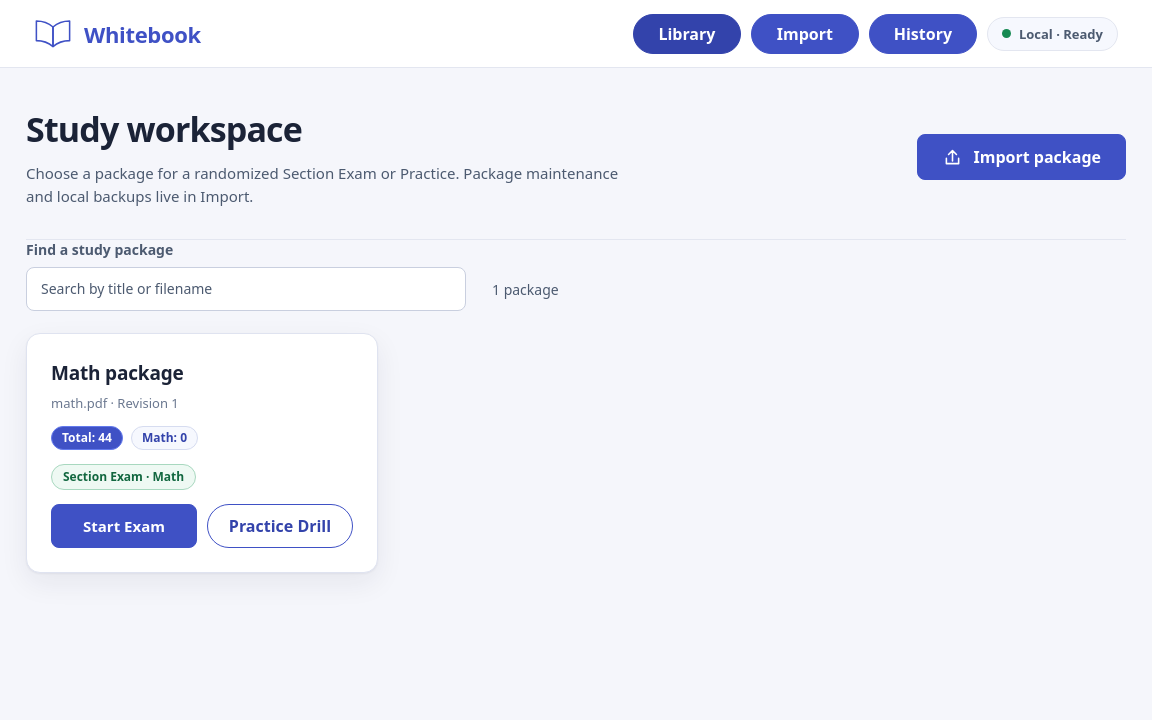
Test: surfaces a clear Start Exam error without creating an Attempt
Click the button "Start Exam" at x=124, y=526, box [51,504,197,548]
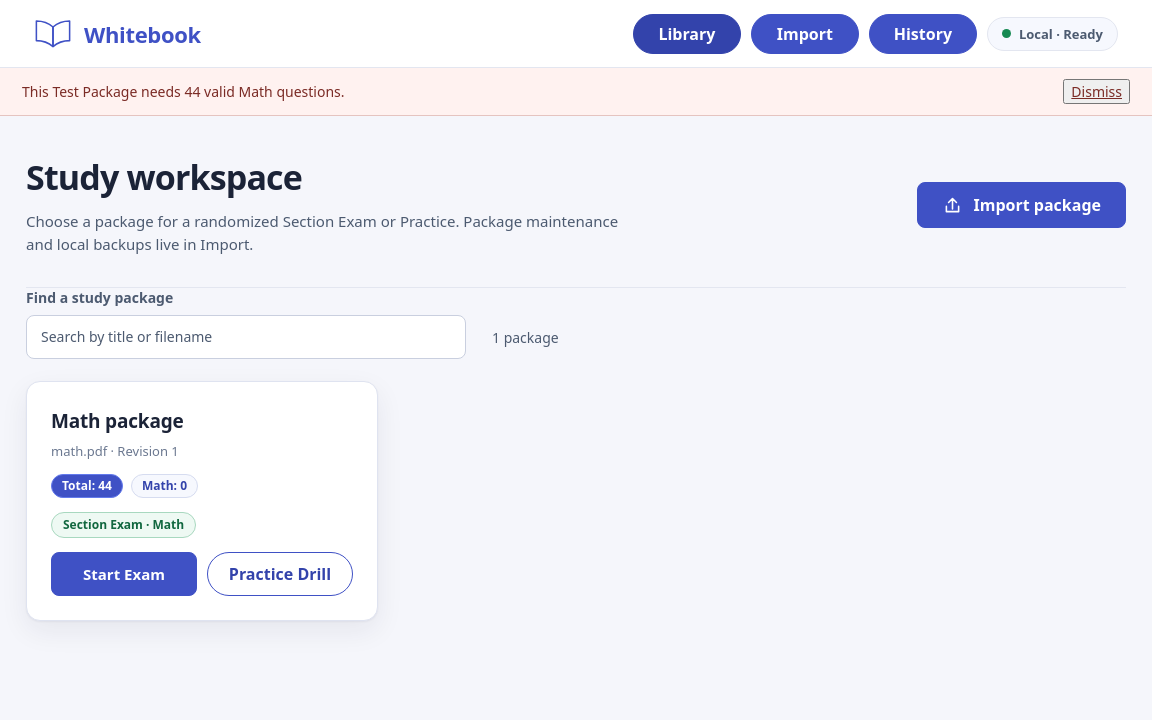
Expected: the message "This Test Package needs 44 valid Math questions. Dismiss" is shown, [0,68,1151,116]
